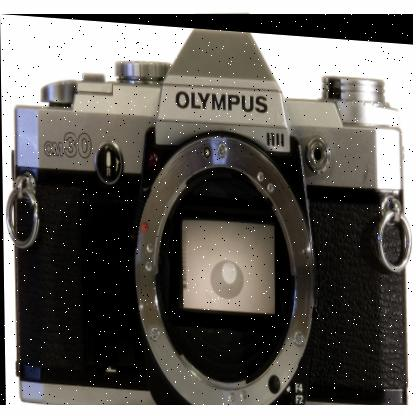Camera: (1, 16, 415, 408)
